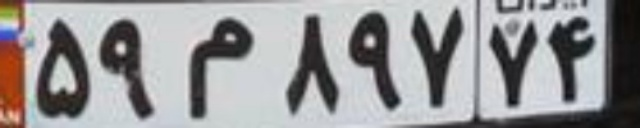4: (546, 15, 597, 102)
5: (35, 16, 91, 118)
7: (407, 8, 460, 109), (486, 19, 536, 108)
8: (286, 14, 338, 115)
9: (98, 18, 152, 119), (347, 11, 401, 110)
mim: (184, 16, 254, 119)
